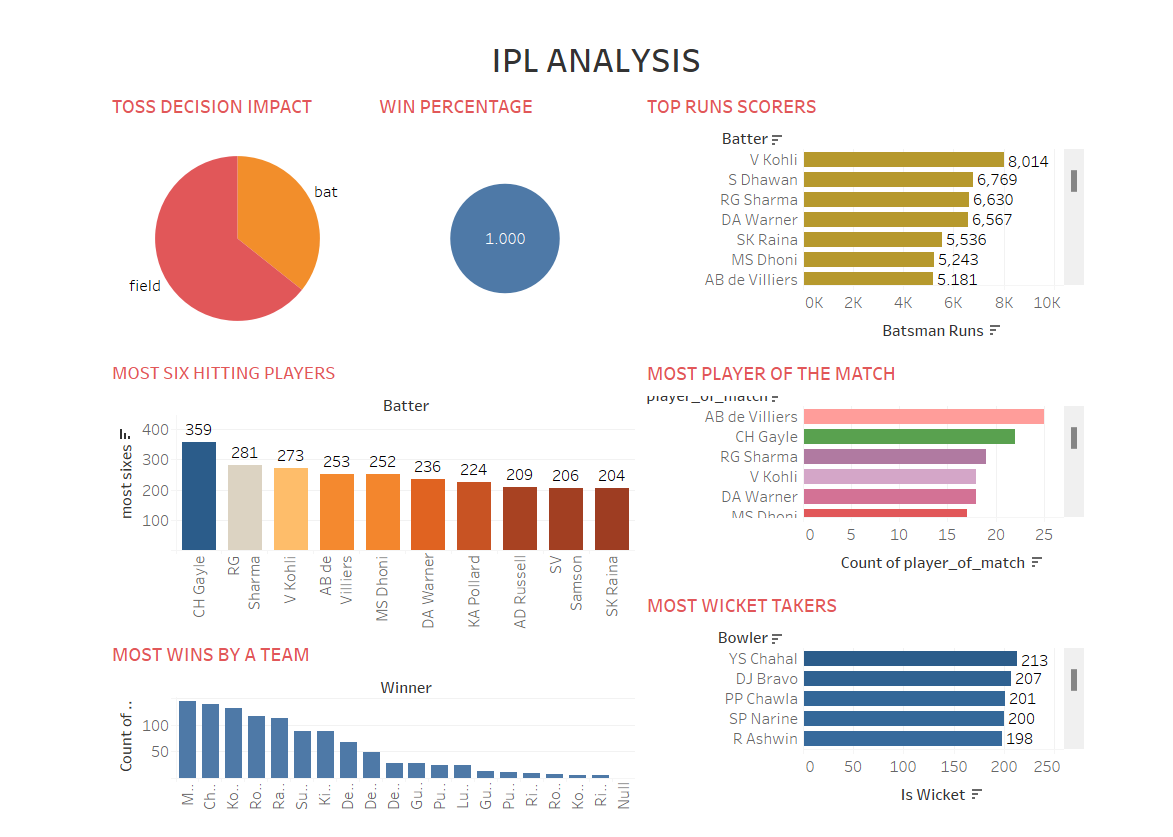

The dashboard page shown, as its layout file describes it:
{"tool":"tableau","page":{"name":"Dashboard 1","canvas":[1000,800],"ordinal":0},"visuals":[{"type":"title","box":[8,8,984,53]},{"type":"worksheet","title":"Sheet 2","mark":"Pie","box":[8,61,267.5,266.7]},{"type":"worksheet","title":"Sheet 7","mark":"Pie","box":[275.5,61,267.5,266.7]},{"type":"worksheet","title":"Sheet 4","mark":"Automatic","rows":["batter"],"cols":["batsman_runs"],"box":[543,61,449,266.7]},{"type":"worksheet","title":"Sheet 3","mark":"Automatic","rows":["Calculation_1286622167255752704"],"cols":["batter"],"box":[8,327.7,535,281.6]},{"type":"worksheet","title":"Sheet 6","mark":"Automatic","rows":["player_of_match"],"cols":["player_of_match"],"box":[543,327.7,449,232.2]},{"type":"worksheet","title":"Sheet 5","mark":"Automatic","rows":["bowler"],"cols":["is_wicket"],"box":[543,559.8,449,232.2]},{"type":"worksheet","title":"Sheet 1","mark":"Bar","rows":["winner"],"cols":["winner"],"box":[8,609.2,535,182.8]}]}

Visuals, with their boxes on the page's 1000x800 design canvas (x1, y1, x2, y2). These are canvas units, not pixel positions in the 1173x837 screenshot, which may show the page scaled, cropped or inside an application window:
title: [8, 8, 992, 61]
"Sheet 2" worksheet (Pie marks): [8, 61, 276, 328]
"Sheet 7" worksheet (Pie marks): [276, 61, 543, 328]
"Sheet 4" worksheet: [543, 61, 992, 328]
"Sheet 3" worksheet: [8, 328, 543, 609]
"Sheet 6" worksheet: [543, 328, 992, 560]
"Sheet 5" worksheet: [543, 560, 992, 792]
"Sheet 1" worksheet (Bar marks): [8, 609, 543, 792]
